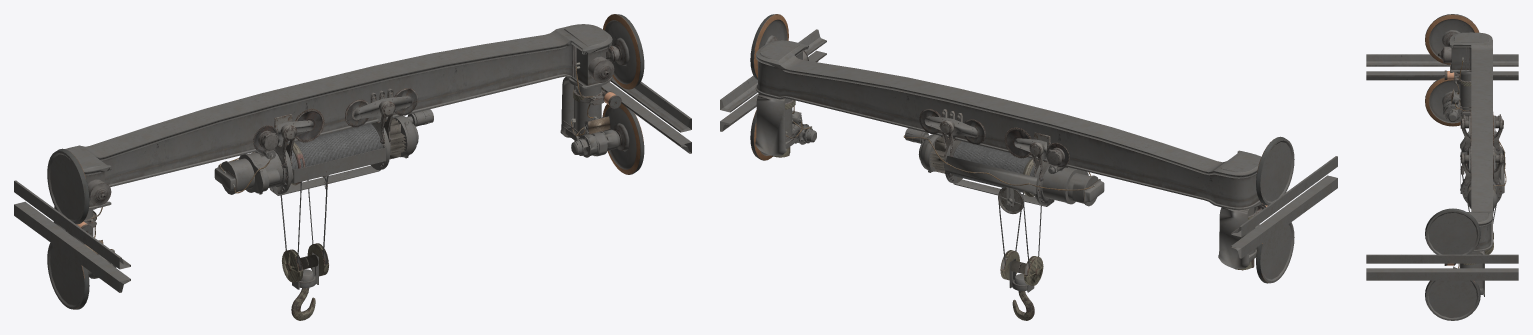
File: lf-crane.glb
3 views of the same model, side by side, from view 1: azimuth 30°, elevation 25°; view 2: azimuth 150°, elevation 25°; view 3: azimuth 270°, elevation 25° (orthographic). The views are drawn at different scales.
Visible parts, largest first — view 1: overhead_crane, overhead_crane_winch, overhead_crane_rails; view 2: overhead_crane, overhead_crane_winch, overhead_crane_rails; view 3: overhead_crane, overhead_crane_rails, overhead_crane_winch.
Boxes of the visible parts, left/top/right/bottom form: overhead_crane: left=47, top=14, right=644, bottom=309; overhead_crane_winch: left=214, top=88, right=433, bottom=320; overhead_crane_rails: left=14, top=77, right=691, bottom=292; overhead_crane: left=750, top=14, right=1294, bottom=283; overhead_crane_winch: left=903, top=109, right=1104, bottom=320; overhead_crane_rails: left=720, top=29, right=1337, bottom=258; overhead_crane: left=1425, top=14, right=1492, bottom=320; overhead_crane_rails: left=1366, top=54, right=1518, bottom=280; overhead_crane_winch: left=1460, top=112, right=1506, bottom=254.
Bounding box in the file's own units: 12.49 × 5.13 × 4.
2 materials, 2 textured.
